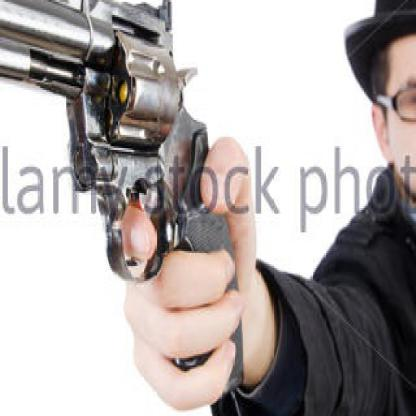gun: (0, 0, 246, 401)
